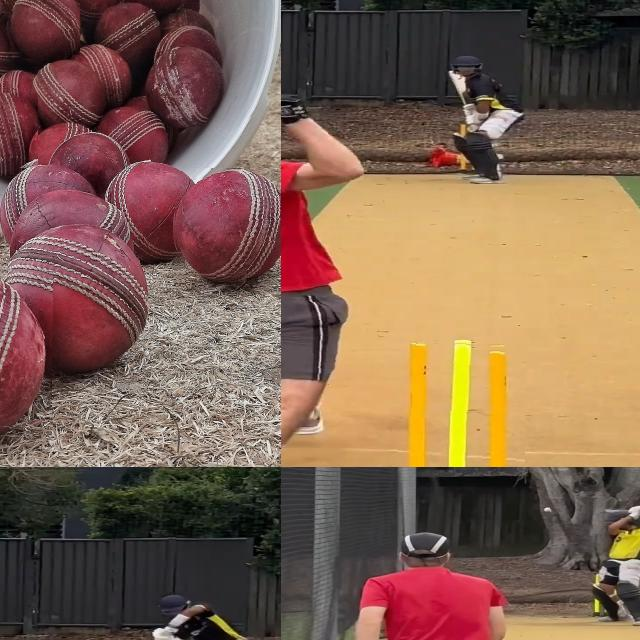Cricket ball: (172, 167, 281, 291), (0, 260, 53, 454), (4, 0, 79, 59), (0, 92, 38, 173), (541, 505, 555, 514)
Stumps: (390, 339, 525, 467)
